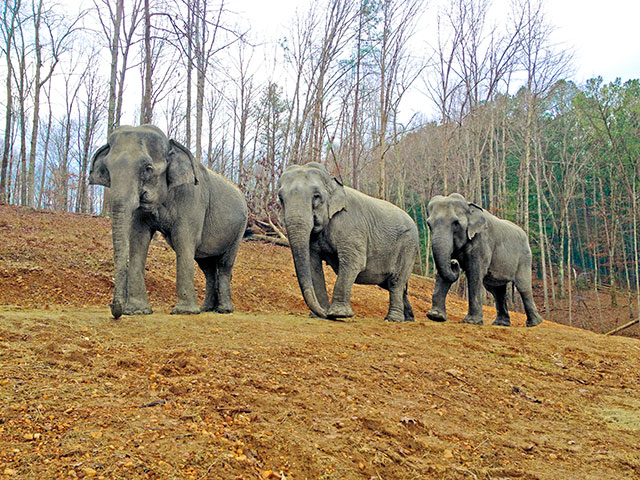elephant: (78, 119, 255, 318), (275, 158, 422, 327), (417, 180, 548, 334)
